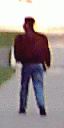person: (8, 16, 55, 121)
